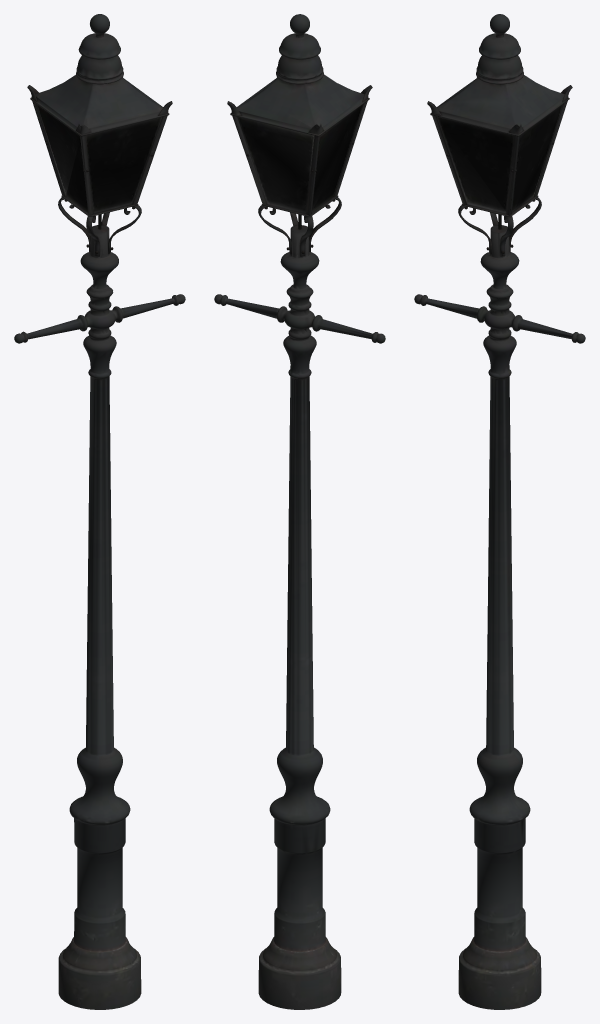
Rendered from street_lamp_01.glb.
3 views of the same model, side by side, from view 1: azimuth 30°, elevation 25°; view 2: azimuth 150°, elevation 25°; view 3: azimuth 330°, elevation 25° (orthographic).
Parts seen in each view (by area): view 1: street_lamp_01; view 2: street_lamp_01; view 3: street_lamp_01.
Part boxes in pixels (x1,y1,x2,y2): street_lamp_01: (14, 14, 185, 1009); street_lamp_01: (214, 14, 385, 1009); street_lamp_01: (414, 14, 585, 1009).
Bounding box in the file's own units: 0.7035 × 3.87 × 0.386.
2 materials, 2 textured.
